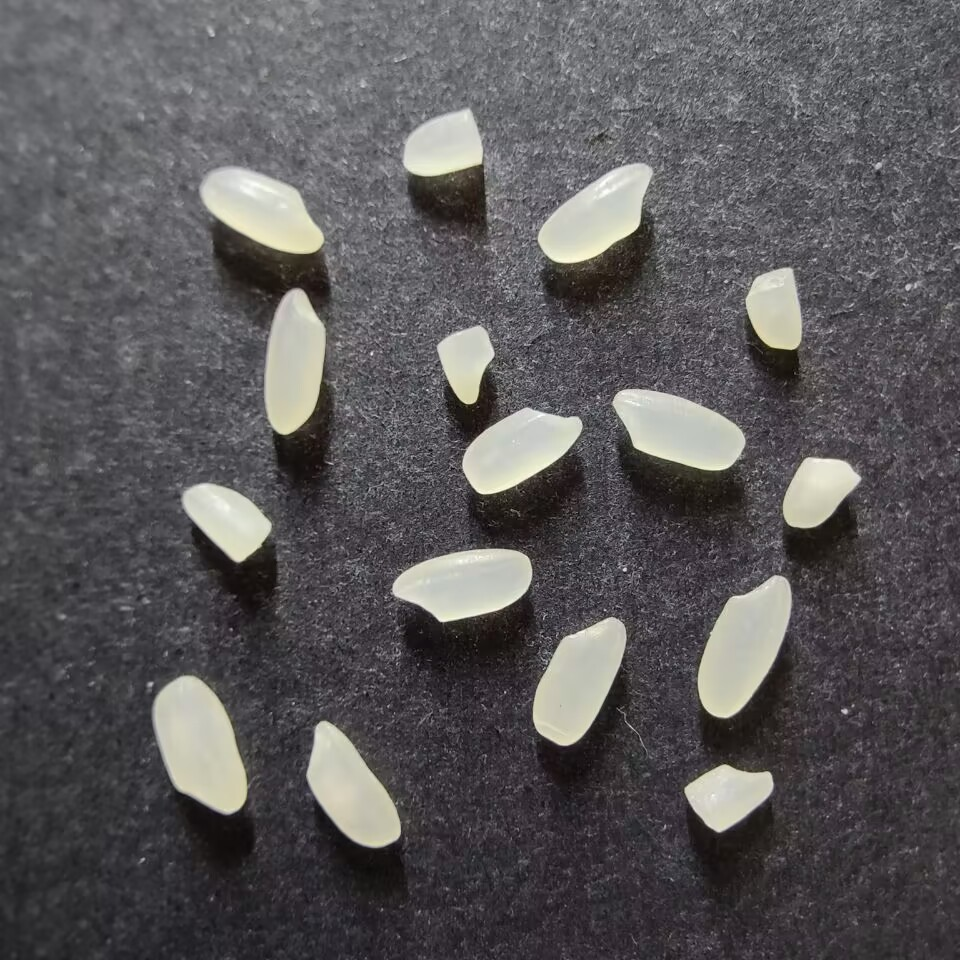broken: (183, 483, 272, 563), (684, 763, 775, 833), (782, 457, 861, 528), (402, 108, 484, 175), (745, 267, 803, 351), (437, 325, 495, 405)
rice: (697, 575, 793, 719), (153, 674, 248, 815), (532, 615, 628, 746), (306, 720, 402, 848), (538, 162, 654, 263), (612, 388, 746, 470), (201, 166, 324, 255), (462, 406, 584, 495), (391, 548, 533, 622), (264, 287, 326, 434)
